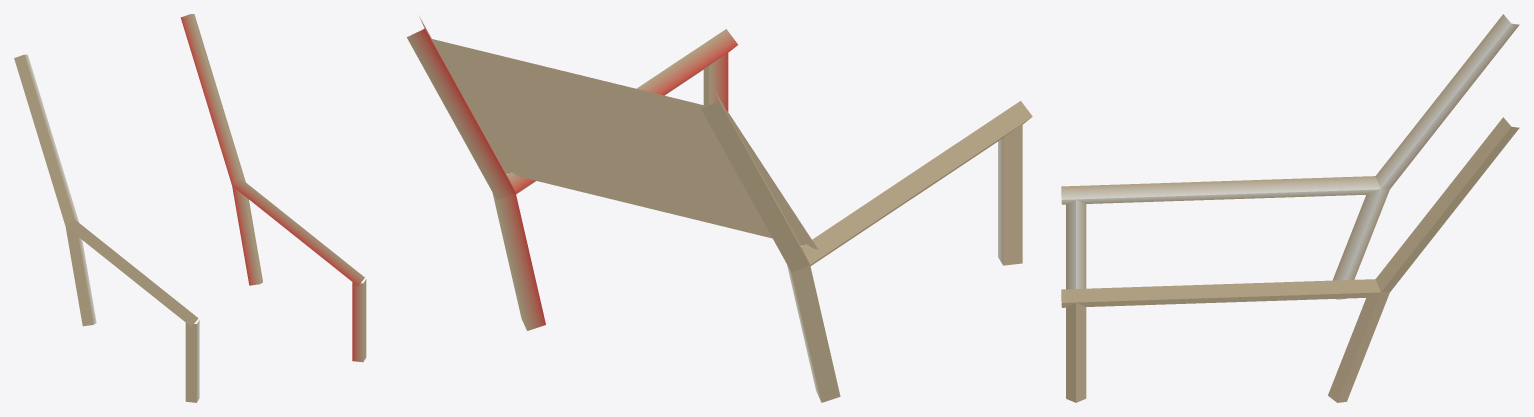
File: deckchair_1.glb
3 renders of one model, left to right at view 1: azimuth 30°, elevation 25°; view 2: azimuth 150°, elevation 25°; view 3: azimuth 270°, elevation 25°, orthographic. The views are drawn at different scales.
Visible parts, largest first — view 1: Deckchair.001; view 2: Deckchair.001; view 3: Deckchair.001.
Part boxes in pixels (x1,y1,x2,y2): Deckchair.001: [14, 14, 366, 402]; Deckchair.001: [407, 16, 1032, 402]; Deckchair.001: [1061, 14, 1519, 402].
Bounding box in the file's own units: 0.91 × 1.08 × 1.58.
